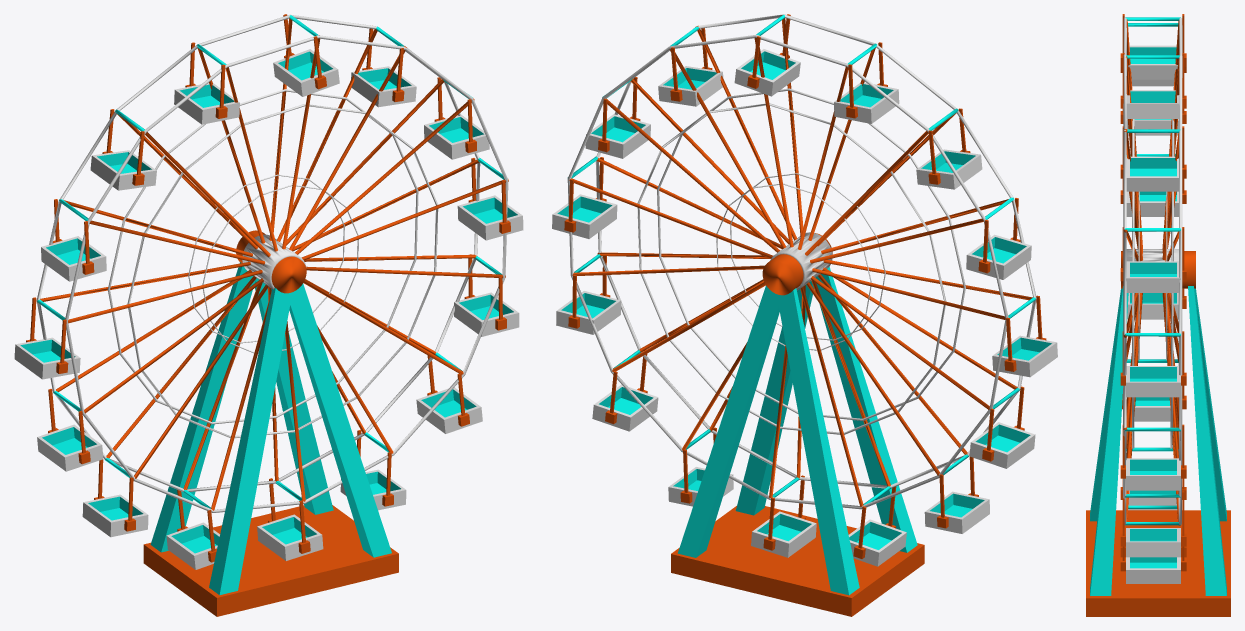
File: noria.fbx
The picture shows the model from 3 angles, left to right: view 1: azimuth 30°, elevation 25°; view 2: azimuth 150°, elevation 25°; view 3: azimuth 270°, elevation 25°; orthographic projection.
Parts seen in each view (by area): view 1: Noria, Base, Plataforma.005, Plataforma.008, Plataforma.012, Plataforma.006, Plataforma, Plataforma.010, Plataforma.003, Plataforma.004, Plataforma.011, Plataforma.013 (+5 smaller); view 2: Noria, Base, Plataforma.005, Plataforma.008, Plataforma.012, Plataforma.006, Plataforma, Plataforma.010, Plataforma.003, Plataforma.004, Plataforma.011, Plataforma.013 (+5 smaller); view 3: Base, Noria, Plataforma.014, Plataforma.011, Plataforma.012, Plataforma.013, Plataforma.010, Plataforma.001, Plataforma, Plataforma.009, Plataforma.004, Plataforma.006 (+12 smaller).
Boxes of the visible parts, box(x1,y1,x2,y2) form: Noria: box(36, 14, 508, 512); Base: box(143, 230, 398, 616); Plataforma.005: box(37, 424, 103, 471); Plataforma.008: box(257, 514, 323, 560); Plataforma.012: box(457, 195, 523, 240); Plataforma.006: box(82, 494, 148, 537); Plataforma: box(273, 49, 339, 96); Plataforma.010: box(416, 387, 482, 433); Plataforma.003: box(41, 236, 106, 281); Plataforma.004: box(14, 337, 80, 379); Plataforma.011: box(454, 292, 519, 336); Plataforma.013: box(424, 115, 489, 159); Noria: box(567, 14, 1036, 509); Base: box(671, 233, 924, 616); Plataforma.005: box(969, 422, 1035, 468); Plataforma.008: box(751, 511, 816, 557); Plataforma.012: box(552, 194, 617, 238); Plataforma.006: box(924, 491, 989, 533); Plataforma: box(734, 49, 800, 96); Plataforma.010: box(592, 384, 658, 431); Plataforma.003: box(966, 234, 1031, 279); Plataforma.004: box(992, 335, 1057, 377); Plataforma.011: box(556, 291, 621, 334); Plataforma.013: box(585, 114, 650, 158); Base: box(1086, 251, 1230, 616); Noria: box(1123, 17, 1182, 525); Plataforma.014: box(1126, 156, 1178, 191); Plataforma.011: box(1126, 458, 1180, 490); Plataforma.012: box(1126, 366, 1180, 397); Plataforma.013: box(1126, 261, 1180, 292); Plataforma.010: box(1126, 528, 1180, 557); Plataforma.001: box(1128, 45, 1177, 79); Plataforma: box(1126, 90, 1179, 118); Plataforma.009: box(1126, 557, 1180, 583); Plataforma.004: box(1126, 191, 1178, 216); Plataforma.006: box(1126, 397, 1170, 421).
Size of the model in its own units: 5301 by 5659 by 1396.
